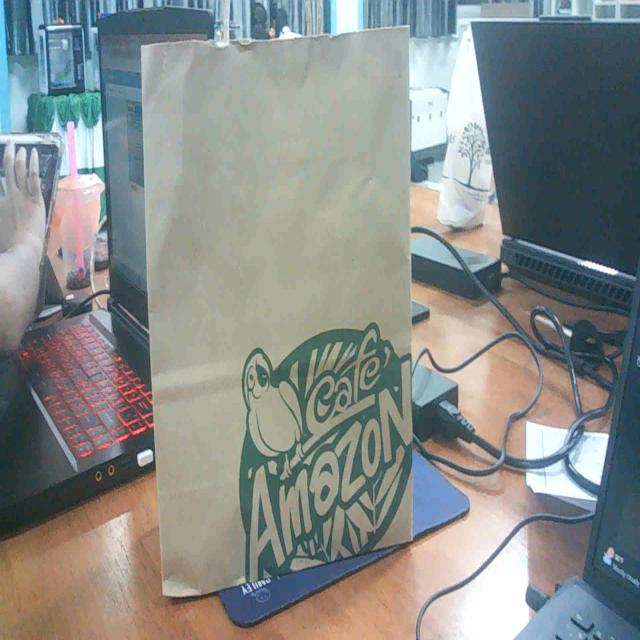bag: (120, 1, 430, 602)
